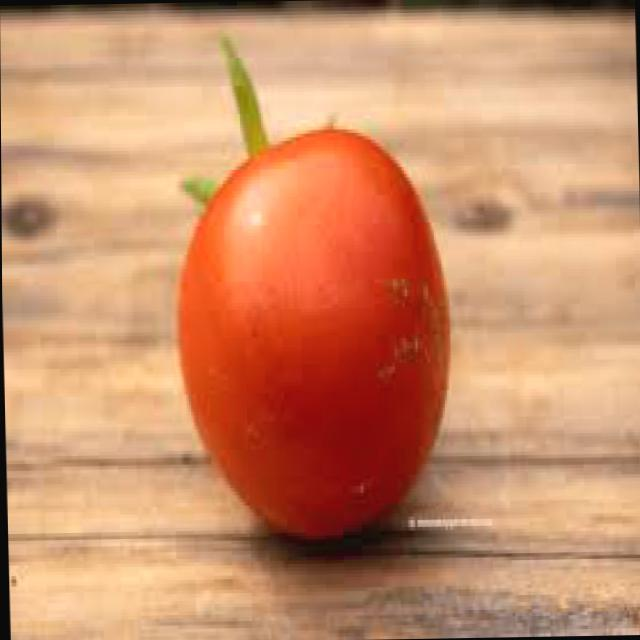tomato: (170, 127, 456, 544)
